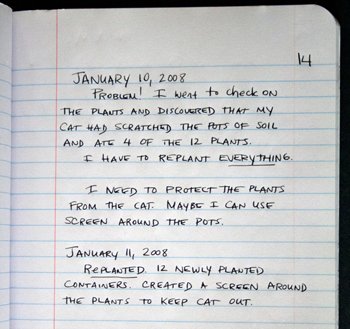partial: (5, 7, 341, 329)
